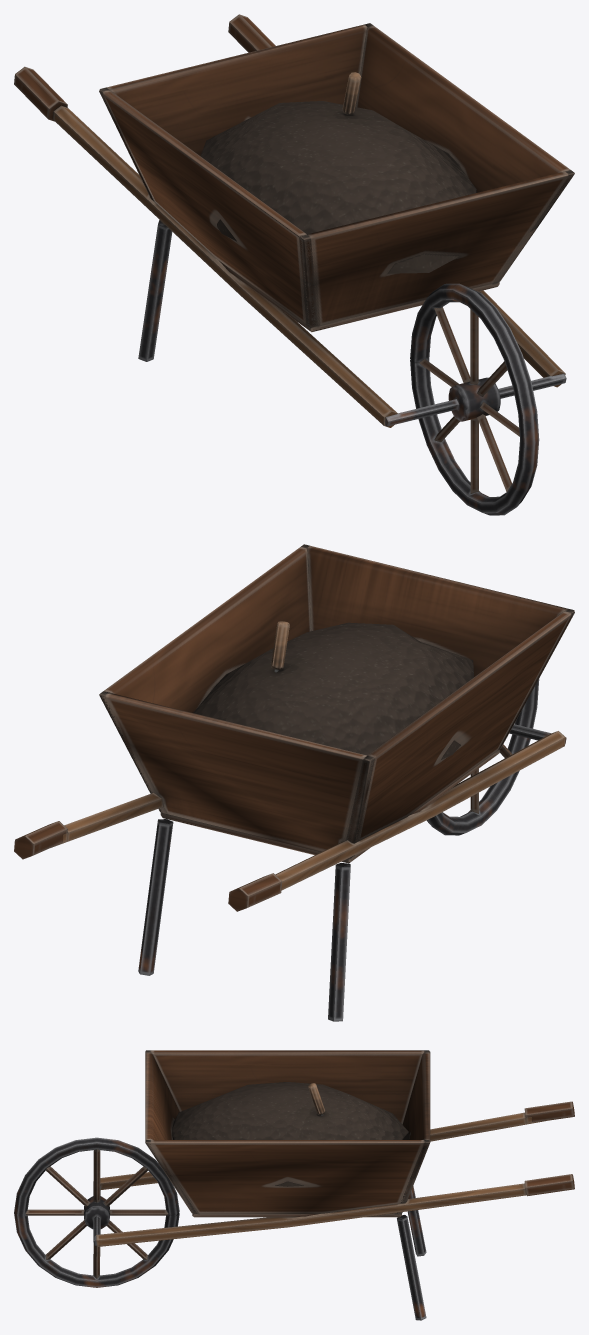
File: Wheelbarrow.fbx
3 renders of one model, top to bottom at view 1: azimuth 30°, elevation 25°; view 2: azimuth 150°, elevation 25°; view 3: azimuth 270°, elevation 25°, orthographic. The views are drawn at different scales.
Parts seen in each view (by area): view 1: Wheelbarrow; view 2: Wheelbarrow; view 3: Wheelbarrow.
Boxes of the visible parts, x1=… form: Wheelbarrow: x1=14, y1=14, x2=574, y2=515; Wheelbarrow: x1=14, y1=544, x2=574, y2=1021; Wheelbarrow: x1=14, y1=1050, x2=574, y2=1320.
Bounding box in the file's own units: 229 × 250 × 588.
